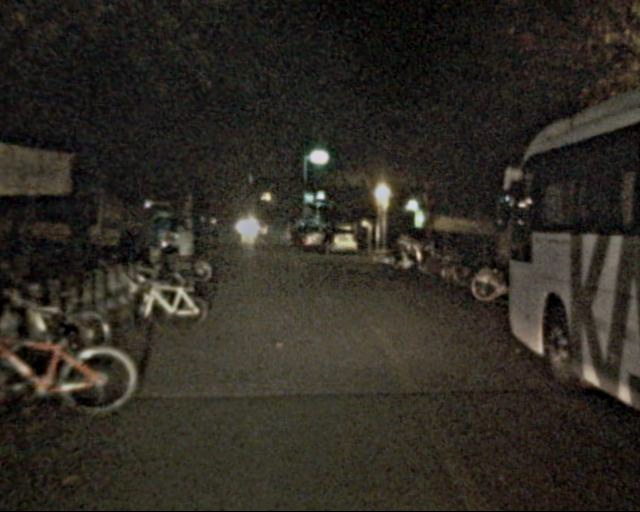person: (168, 219, 199, 295), (322, 223, 337, 259), (284, 224, 298, 257)
